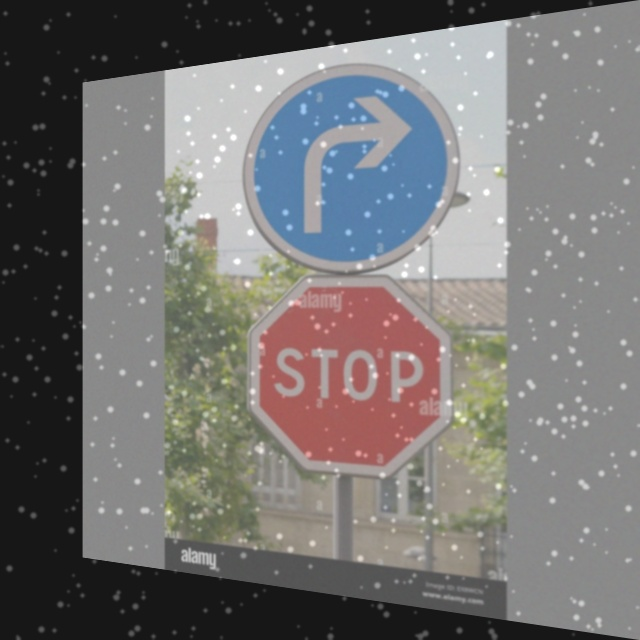Compulsory_Turn_Right_Ahead: (243, 51, 464, 272)
